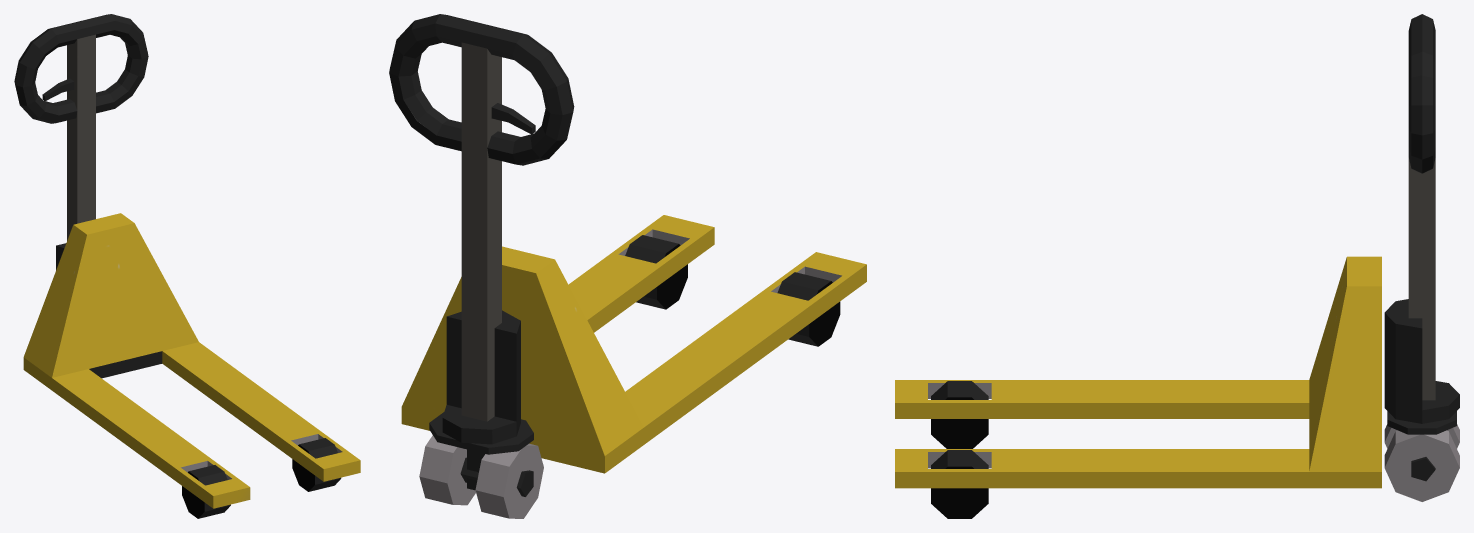
Rendered from Decor_PumpTruck.fbx.
3 renders of one model, left to right at view 1: azimuth 30°, elevation 25°; view 2: azimuth 150°, elevation 25°; view 3: azimuth 270°, elevation 25°, orthographic. The views are drawn at different scales.
Parts seen in each view (by area): view 1: arehouse Parts.003; view 2: arehouse Parts.003; view 3: arehouse Parts.003.
Part boxes in pixels (<box>): arehouse Parts.003: <box>14,14,360,518</box>; arehouse Parts.003: <box>389,14,866,518</box>; arehouse Parts.003: <box>895,14,1459,518</box>.
Size of the model in its own units: 57.89 by 132 by 150.
Materials: 1 (1 with a texture image).
